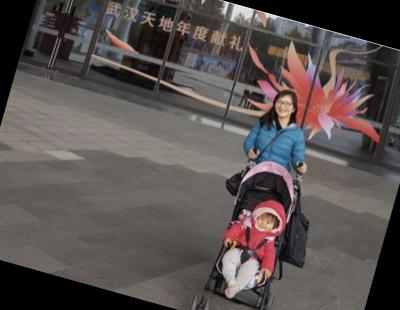without_mask: (273, 95, 295, 117), (255, 210, 276, 232)
